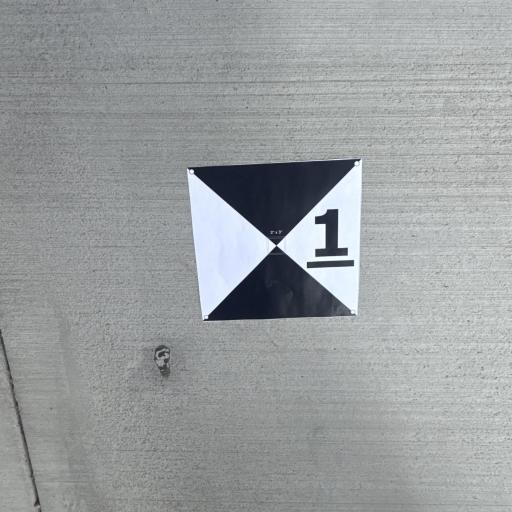target1: (184, 158, 368, 330)
